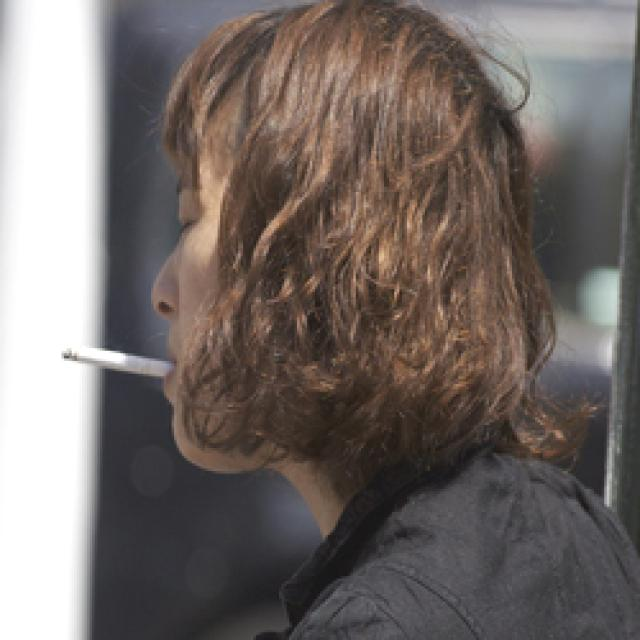Smooking: (57, 342, 174, 381)
